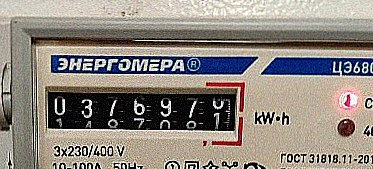0: (52, 93, 66, 115)
1: (210, 109, 222, 129)
3: (79, 96, 94, 118)
6: (131, 92, 146, 115)
7: (104, 93, 119, 116), (185, 94, 199, 117)
9: (157, 93, 172, 116)
screen: (36, 75, 248, 149)
